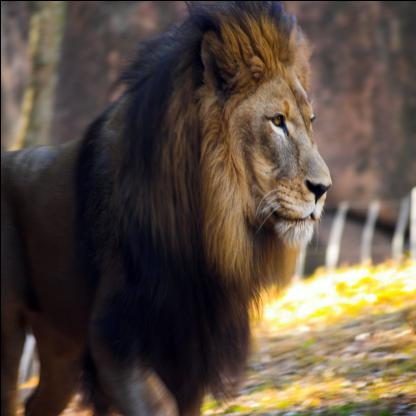lion: (172, 4, 330, 312)
